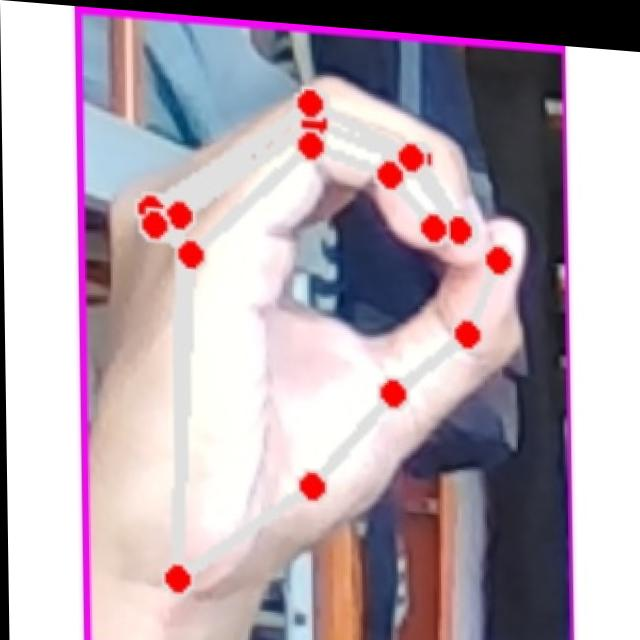O: (94, 34, 532, 633)
